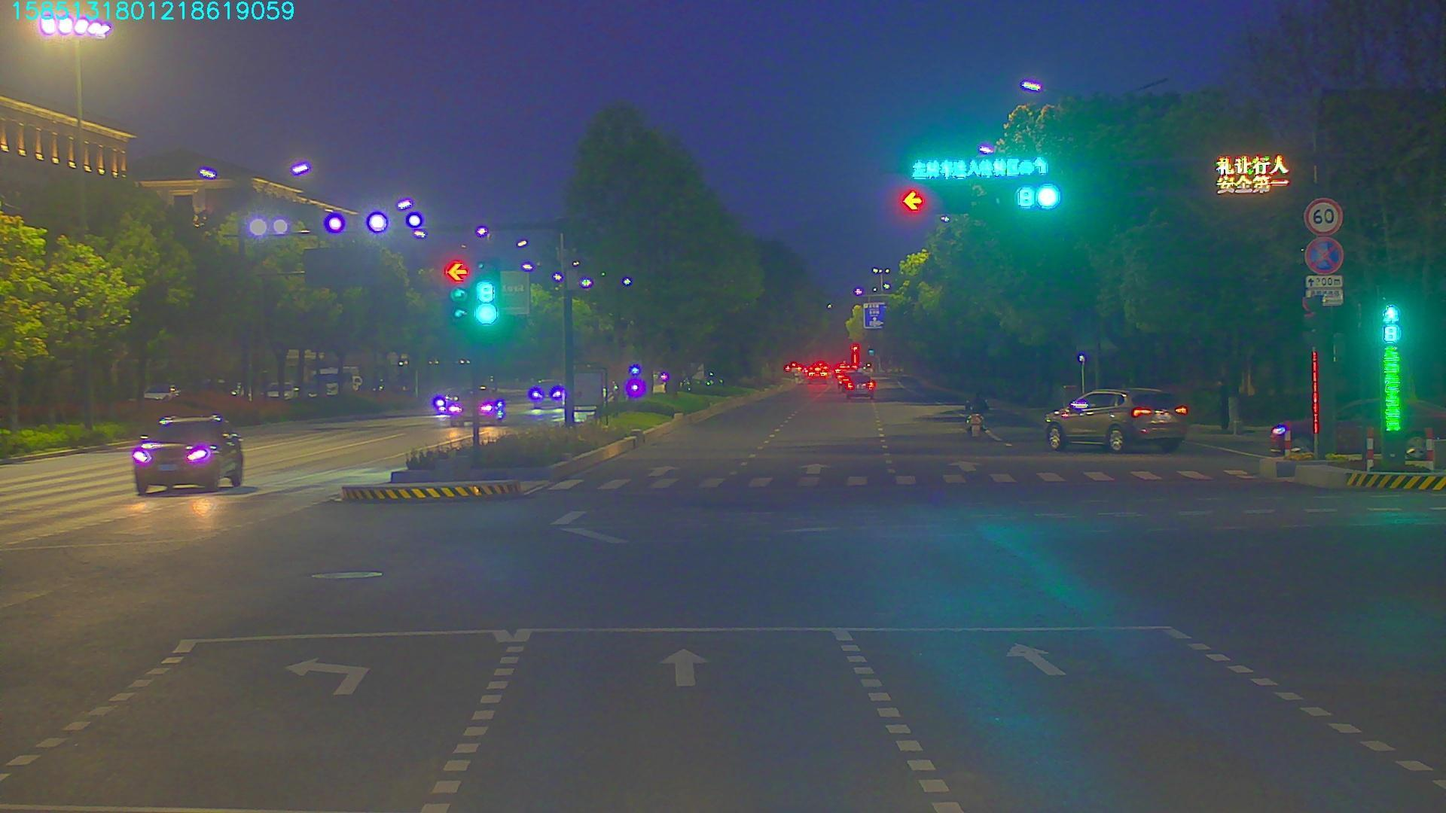green: (1013, 184, 1060, 212)
red: (903, 189, 952, 215)
wait_on: (908, 154, 1054, 173)
